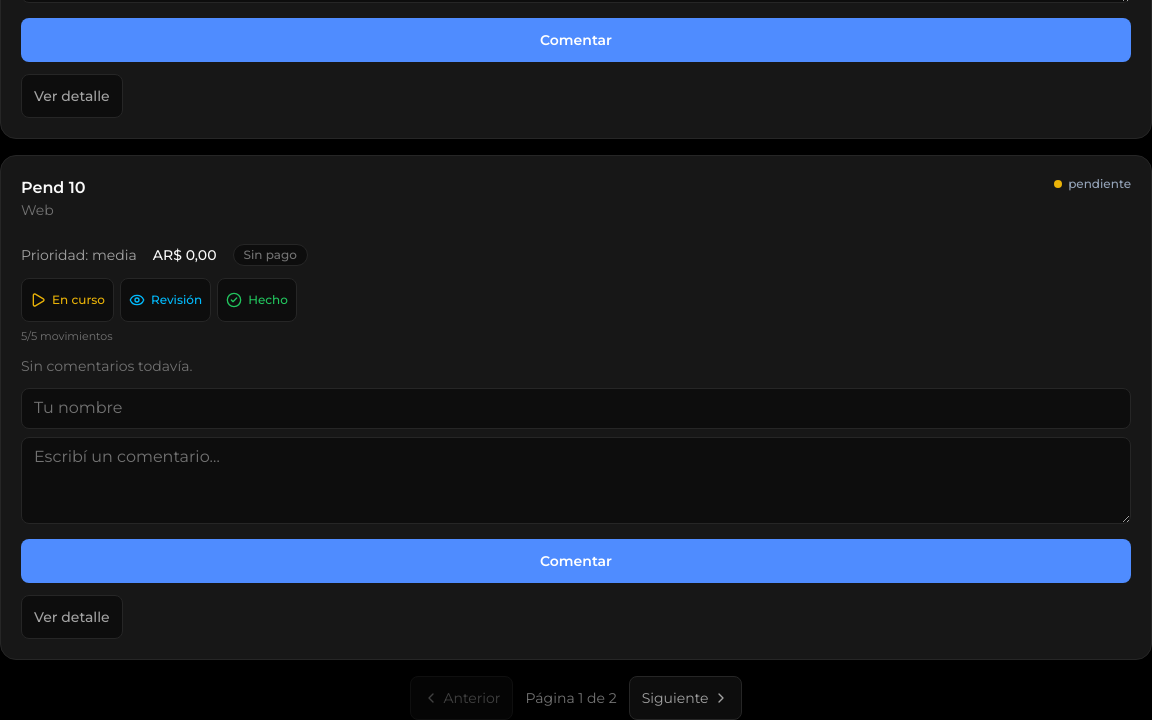
Test case: PortalTaskList navigation › filters by task status and resets to the first page
(page scrolled)
Click the button "Siguiente" at point(685, 698), box [629,676,742,719]
(page scrolled)
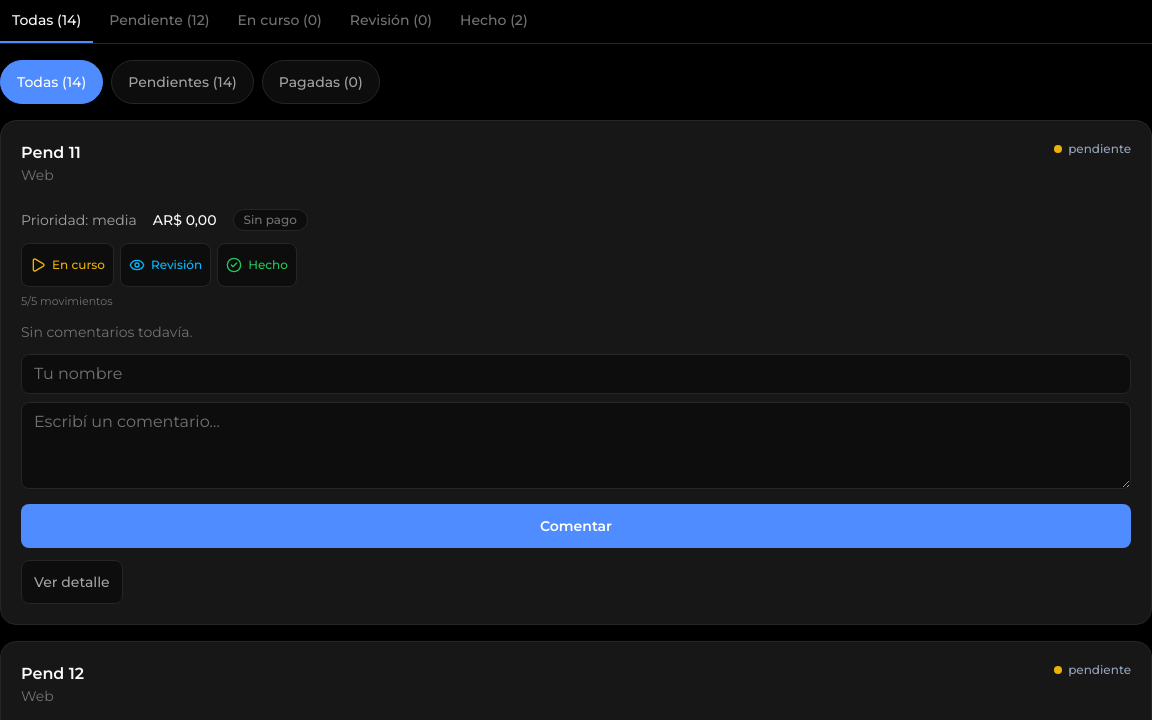
Click the button "Hecho (2)" at point(494, 21), box [448,0,540,43]
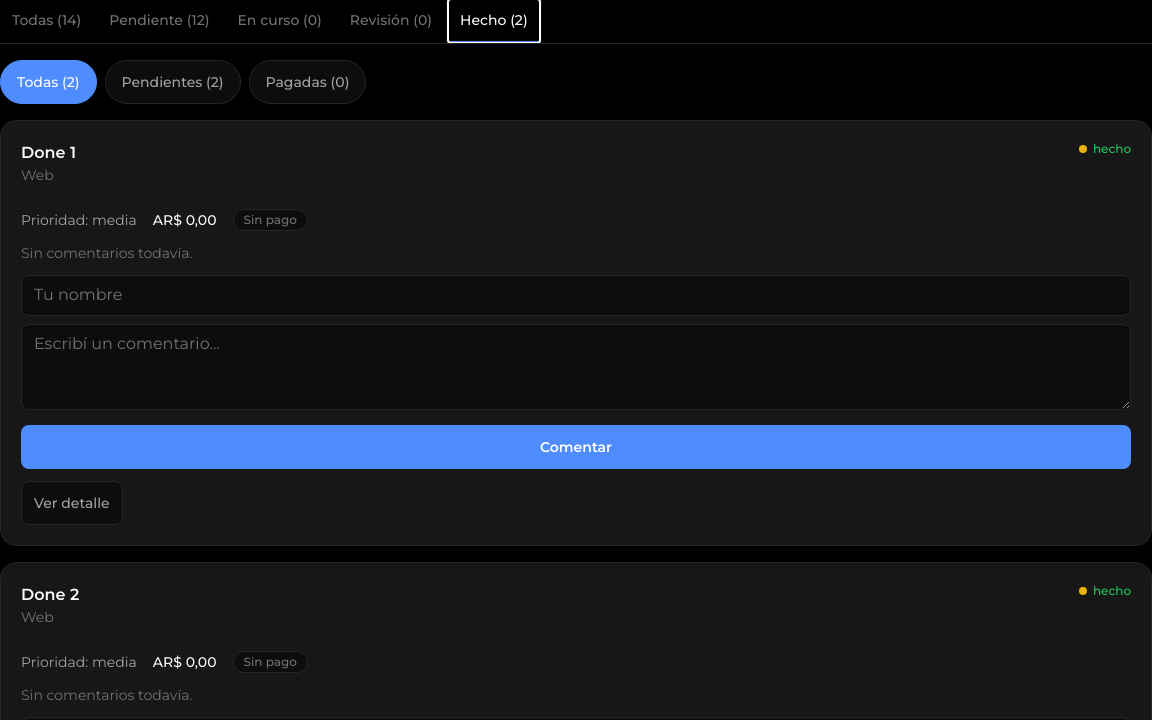
Check: the headings read "Done 1", "Done 2", in this order, box [21,141,76,165]; [21,583,79,607]
